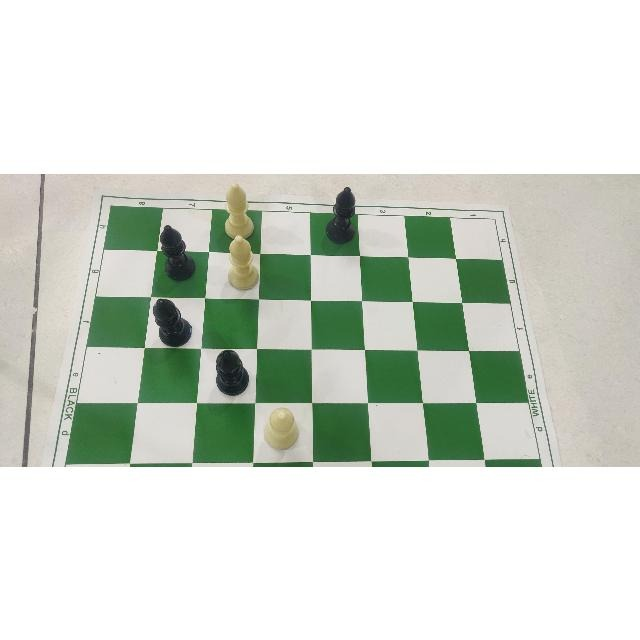black-bishop: (150, 296, 194, 348), (157, 223, 197, 280), (326, 185, 358, 243), (213, 347, 250, 396)
white-bishop: (221, 180, 257, 239), (226, 232, 262, 290), (261, 405, 300, 451)
